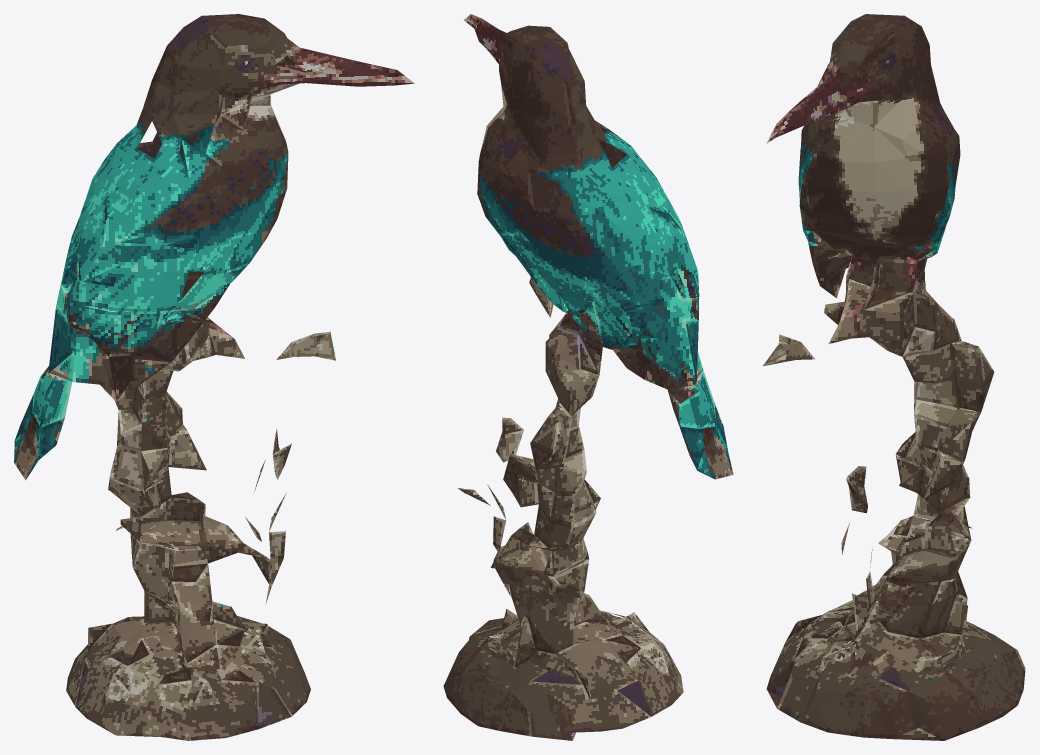
Rendered from kawasemi.glb.
3 views of the same model, side by side, from view 1: azimuth 30°, elevation 25°; view 2: azimuth 150°, elevation 25°; view 3: azimuth 270°, elevation 25° (orthographic). The views are drawn at different scales.
Parts seen in each view (by area): view 1: model_bird; view 2: model_bird; view 3: model_bird.
Part boxes in pixels (box(x1,y1,x2,y2)): model_bird: box(14, 14, 414, 740); model_bird: box(443, 14, 733, 740); model_bird: box(763, 14, 1025, 740).
Size of the model in its own units: 19.78 by 38 by 13.09.
1 material, 1 textured.
